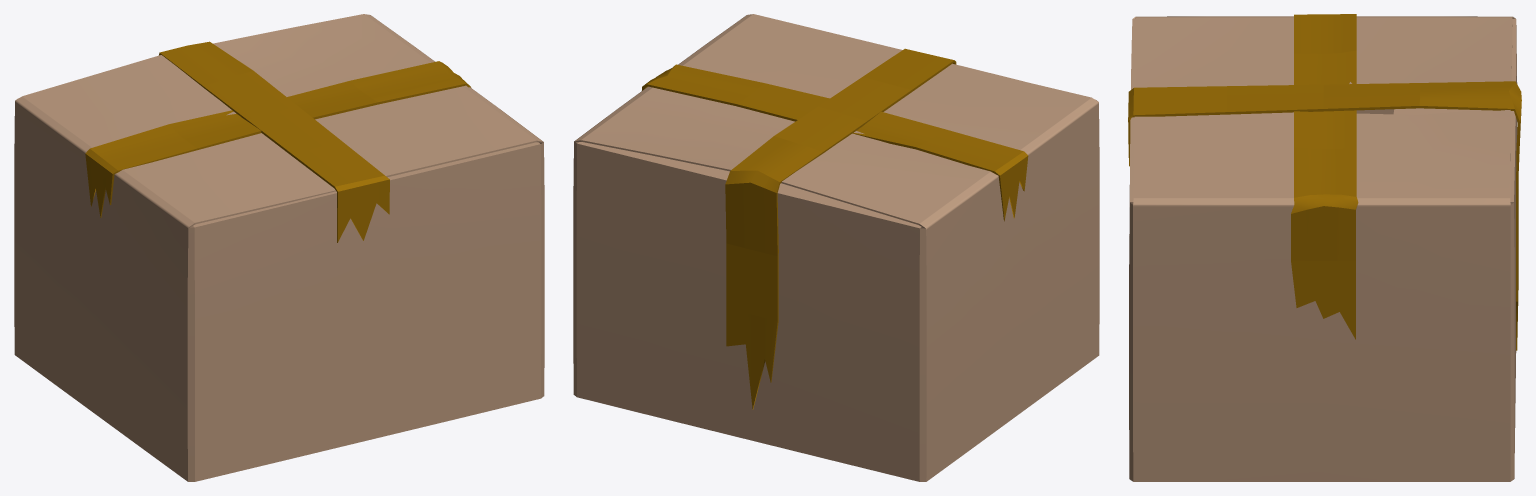
Rendered from BoxBanded.fbx.
3 renders of one model, left to right at view 1: azimuth 30°, elevation 25°; view 2: azimuth 150°, elevation 25°; view 3: azimuth 270°, elevation 25°, orthographic. The views are drawn at different scales.
Parts seen in each view (by area): view 1: BoxBanded; view 2: BoxBanded; view 3: BoxBanded.
Boxes of the visible parts, x1,y1,x2,y2 form: BoxBanded: [14, 14, 544, 481]; BoxBanded: [573, 14, 1099, 481]; BoxBanded: [1128, 14, 1521, 481].
Bounding box in the file's own units: 19.36 × 13.84 × 16.82.
